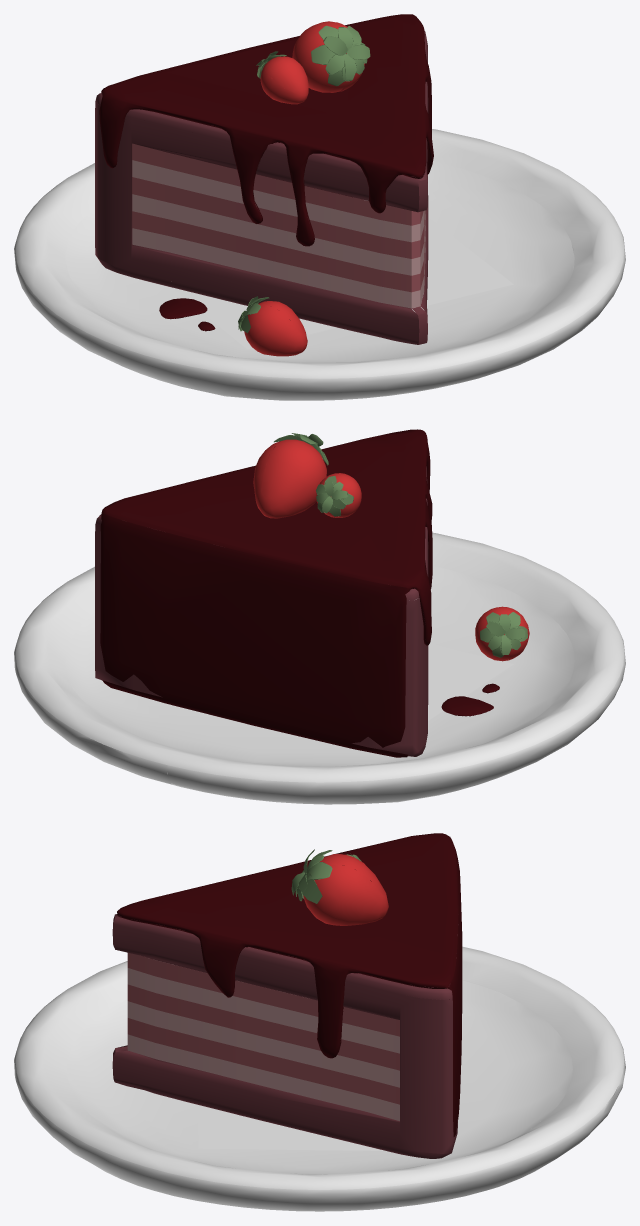
Rendered from cake.glb.
The picture shows the model from 3 angles, top to bottom: view 1: azimuth 30°, elevation 25°; view 2: azimuth 150°, elevation 25°; view 3: azimuth 270°, elevation 25°; orthographic projection.
Parts seen in each view (by area): view 1: MSH_Pastel_MTL_Plato_0, MSH_Pastel_MTL_ChocolateMelt_0, MSH_Pastel_MTL_PanBase_0, MSH_Pastel_MTL_Pastel_RellenoClaro_0, MSH_Pastel_MTL_Pastel_RellenoOscuro_0, MSH_Pastel_MTL_HojasFresa_0, Fresa 3_MTL_Fresa_0, Fresa2_MTL_Fresa_0, Fresa1_MTL_Fresa_0; view 2: MSH_Pastel_MTL_ChocolateMelt_0, MSH_Pastel_MTL_Plato_0, MSH_Pastel_MTL_PanBase_0, Fresa1_MTL_Fresa_0, MSH_Pastel_MTL_HojasFresa_0, Fresa 3_MTL_Fresa_0, Fresa2_MTL_Fresa_0; view 3: MSH_Pastel_MTL_Plato_0, MSH_Pastel_MTL_ChocolateMelt_0, MSH_Pastel_MTL_PanBase_0, MSH_Pastel_MTL_Pastel_RellenoClaro_0, MSH_Pastel_MTL_Pastel_RellenoOscuro_0, Fresa1_MTL_Fresa_0, MSH_Pastel_MTL_HojasFresa_0.
Boxes of the visible parts, x1,y1,x2,y2 form: MSH_Pastel_MTL_Plato_0: (14, 129, 625, 400); MSH_Pastel_MTL_ChocolateMelt_0: (99, 14, 433, 331); MSH_Pastel_MTL_PanBase_0: (95, 30, 428, 344); MSH_Pastel_MTL_Pastel_RellenoClaro_0: (132, 160, 425, 308); MSH_Pastel_MTL_Pastel_RellenoOscuro_0: (132, 143, 425, 292); MSH_Pastel_MTL_HojasFresa_0: (238, 25, 370, 333); Fresa 3_MTL_Fresa_0: (244, 301, 307, 356); Fresa2_MTL_Fresa_0: (260, 56, 308, 104); Fresa1_MTL_Fresa_0: (292, 21, 364, 92); MSH_Pastel_MTL_ChocolateMelt_0: (100, 429, 499, 757); MSH_Pastel_MTL_Plato_0: (14, 532, 625, 804); MSH_Pastel_MTL_PanBase_0: (95, 435, 428, 756); Fresa1_MTL_Fresa_0: (253, 439, 326, 518); MSH_Pastel_MTL_HojasFresa_0: (274, 433, 527, 657); Fresa 3_MTL_Fresa_0: (475, 606, 529, 661); Fresa2_MTL_Fresa_0: (316, 473, 361, 517); MSH_Pastel_MTL_Plato_0: (14, 946, 625, 1211); MSH_Pastel_MTL_ChocolateMelt_0: (117, 833, 462, 1136); MSH_Pastel_MTL_PanBase_0: (112, 914, 458, 1158); MSH_Pastel_MTL_Pastel_RellenoClaro_0: (127, 964, 399, 1120); MSH_Pastel_MTL_Pastel_RellenoOscuro_0: (127, 952, 399, 1104); Fresa1_MTL_Fresa_0: (303, 854, 388, 925); MSH_Pastel_MTL_HojasFresa_0: (291, 849, 361, 903).
Size of the model in its own units: 9.26 by 4.35 by 9.26.
7 materials, 4 textured.
